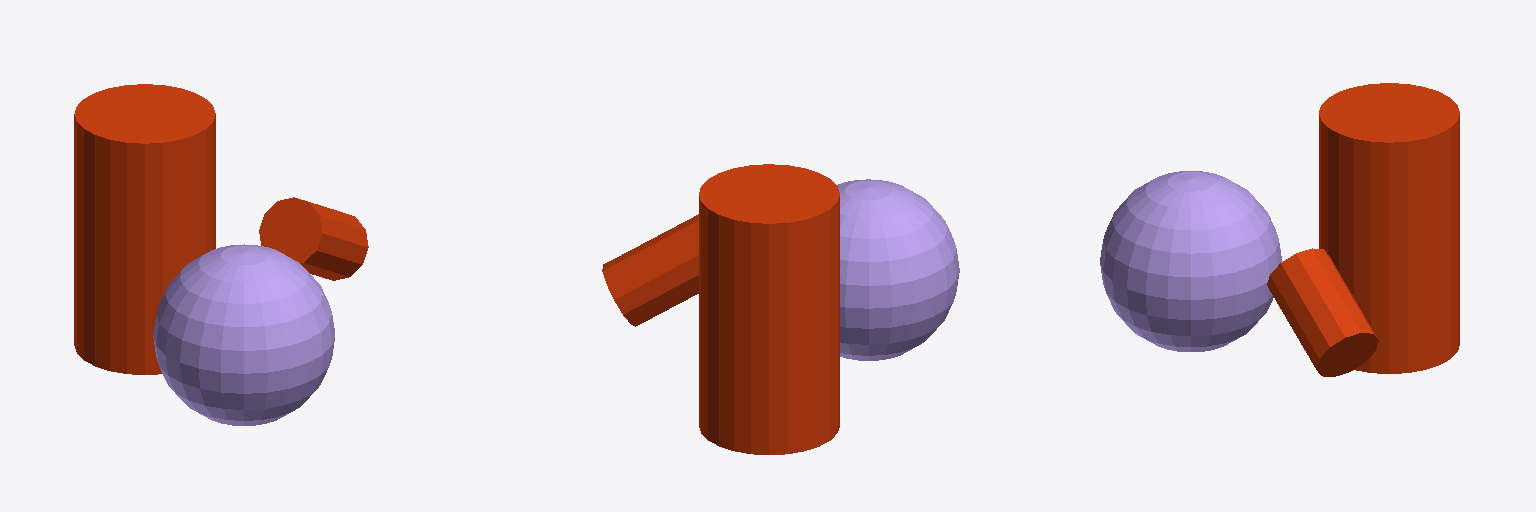
File: complex.obj
The picture shows the model from 3 angles: view 1: azimuth 30°, elevation 25°; view 2: azimuth 150°, elevation 25°; view 3: azimuth 270°, elevation 25°; orthographic projection.
Parts seen in each view (by area): view 1: Cylinder02, Sphere03, Cylinder01; view 2: Cylinder02, Sphere03, Cylinder01; view 3: Cylinder02, Sphere03, Cylinder01.
Part boxes in pixels (x1,y1,x2,y2): Cylinder02: (74,84,215,374); Sphere03: (153,244,334,425); Cylinder01: (259,197,368,280); Cylinder02: (699,164,839,454); Sphere03: (837,179,959,360); Cylinder01: (602,214,698,326); Cylinder02: (1319,83,1459,373); Sphere03: (1100,171,1281,351); Cylinder01: (1267,248,1378,376).
Size of the model in its own units: 34.22 by 28 by 39.5.